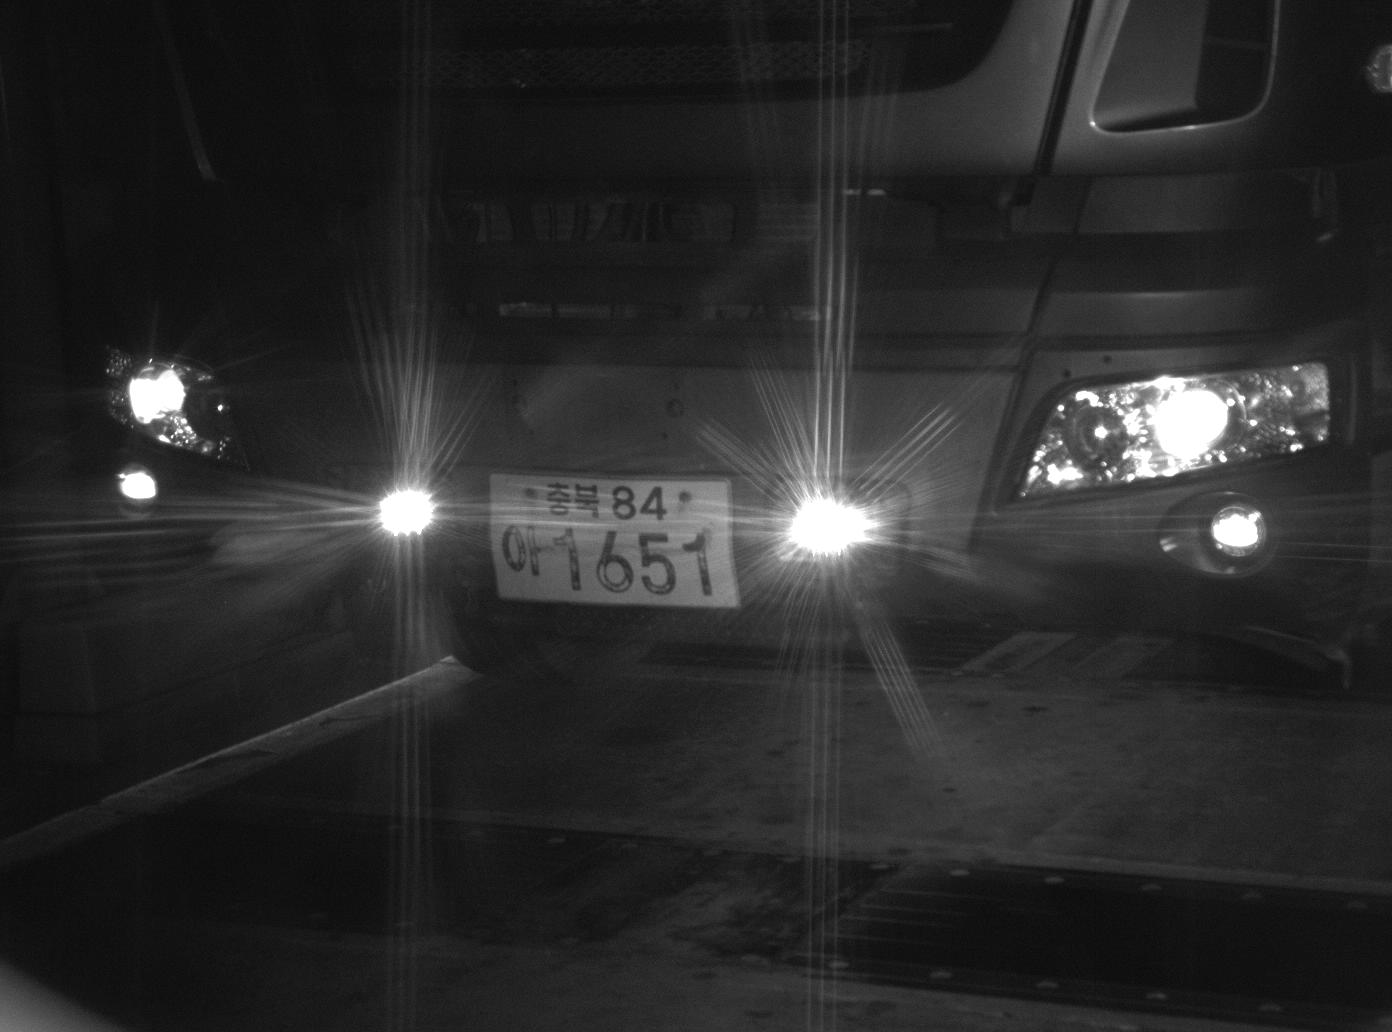car: (55, 1, 1390, 693)
plate: (483, 467, 745, 610)
